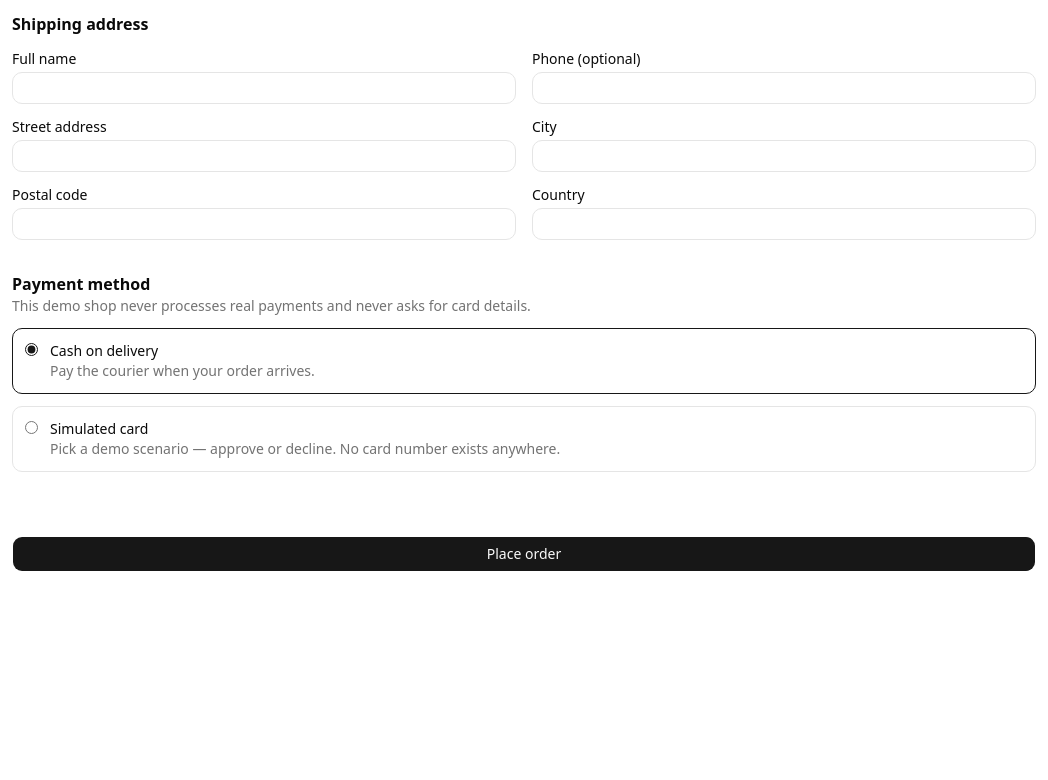
Scenario: CheckoutForm › reveals the demo scenarios when the simulated card is selected
This screenshot has width=1048, height=780.
Click the radio button labelled "Simulated card": [32, 428] box [25,421,38,434]
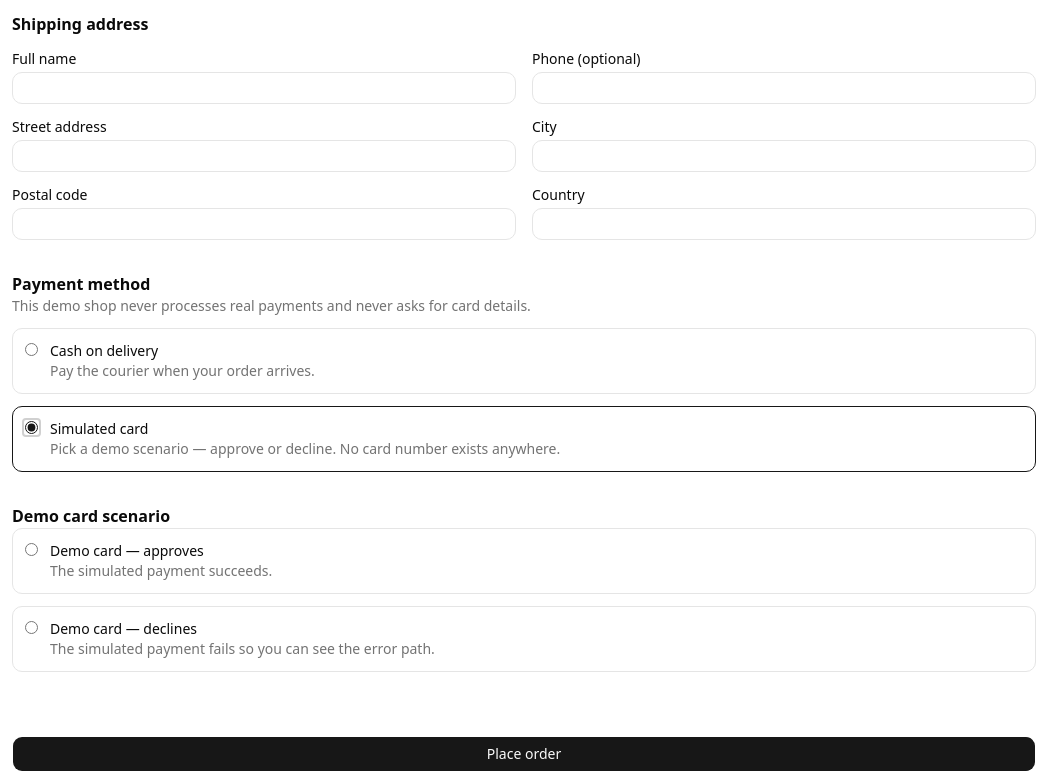
Check: the radio button labelled "Demo card — approves The simulated payment succeeds." is shown, box [25,543,38,556]
Check: the radio button labelled "Demo card — declines" is shown, box [25,621,38,634]
